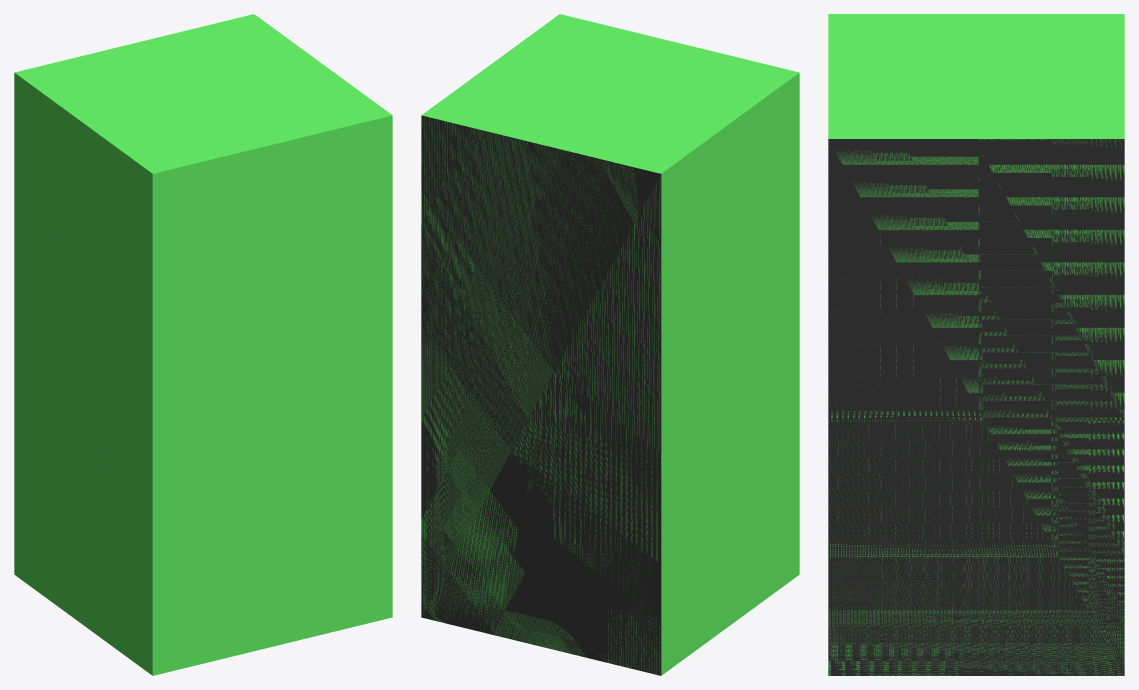
The model's file is cezhu.dae.
3 renders of one model, left to right at view 1: azimuth 30°, elevation 25°; view 2: azimuth 150°, elevation 25°; view 3: azimuth 270°, elevation 25°, orthographic. The views are drawn at different scales.
Parts seen in each view (by area): view 1: cezhu; view 2: cezhu (×2); view 3: cezhu (×2).
Boxes of the visible parts, bbox=[...] form: cezhu: bbox=[14, 14, 392, 675]; cezhu (×2): bbox=[421, 14, 799, 675]; cezhu (×2): bbox=[828, 14, 1124, 675].
Size of the model in its own units: 19.69 by 19.69 by 39.37.
